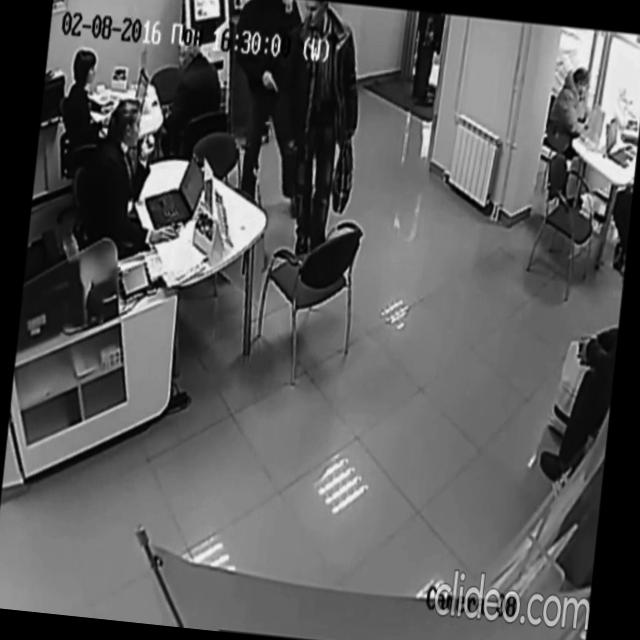gun: (266, 64, 287, 100)
person: (264, 0, 370, 262), (78, 93, 192, 263), (537, 62, 598, 210), (57, 45, 121, 168)
person with a gun: (215, 0, 324, 225)
